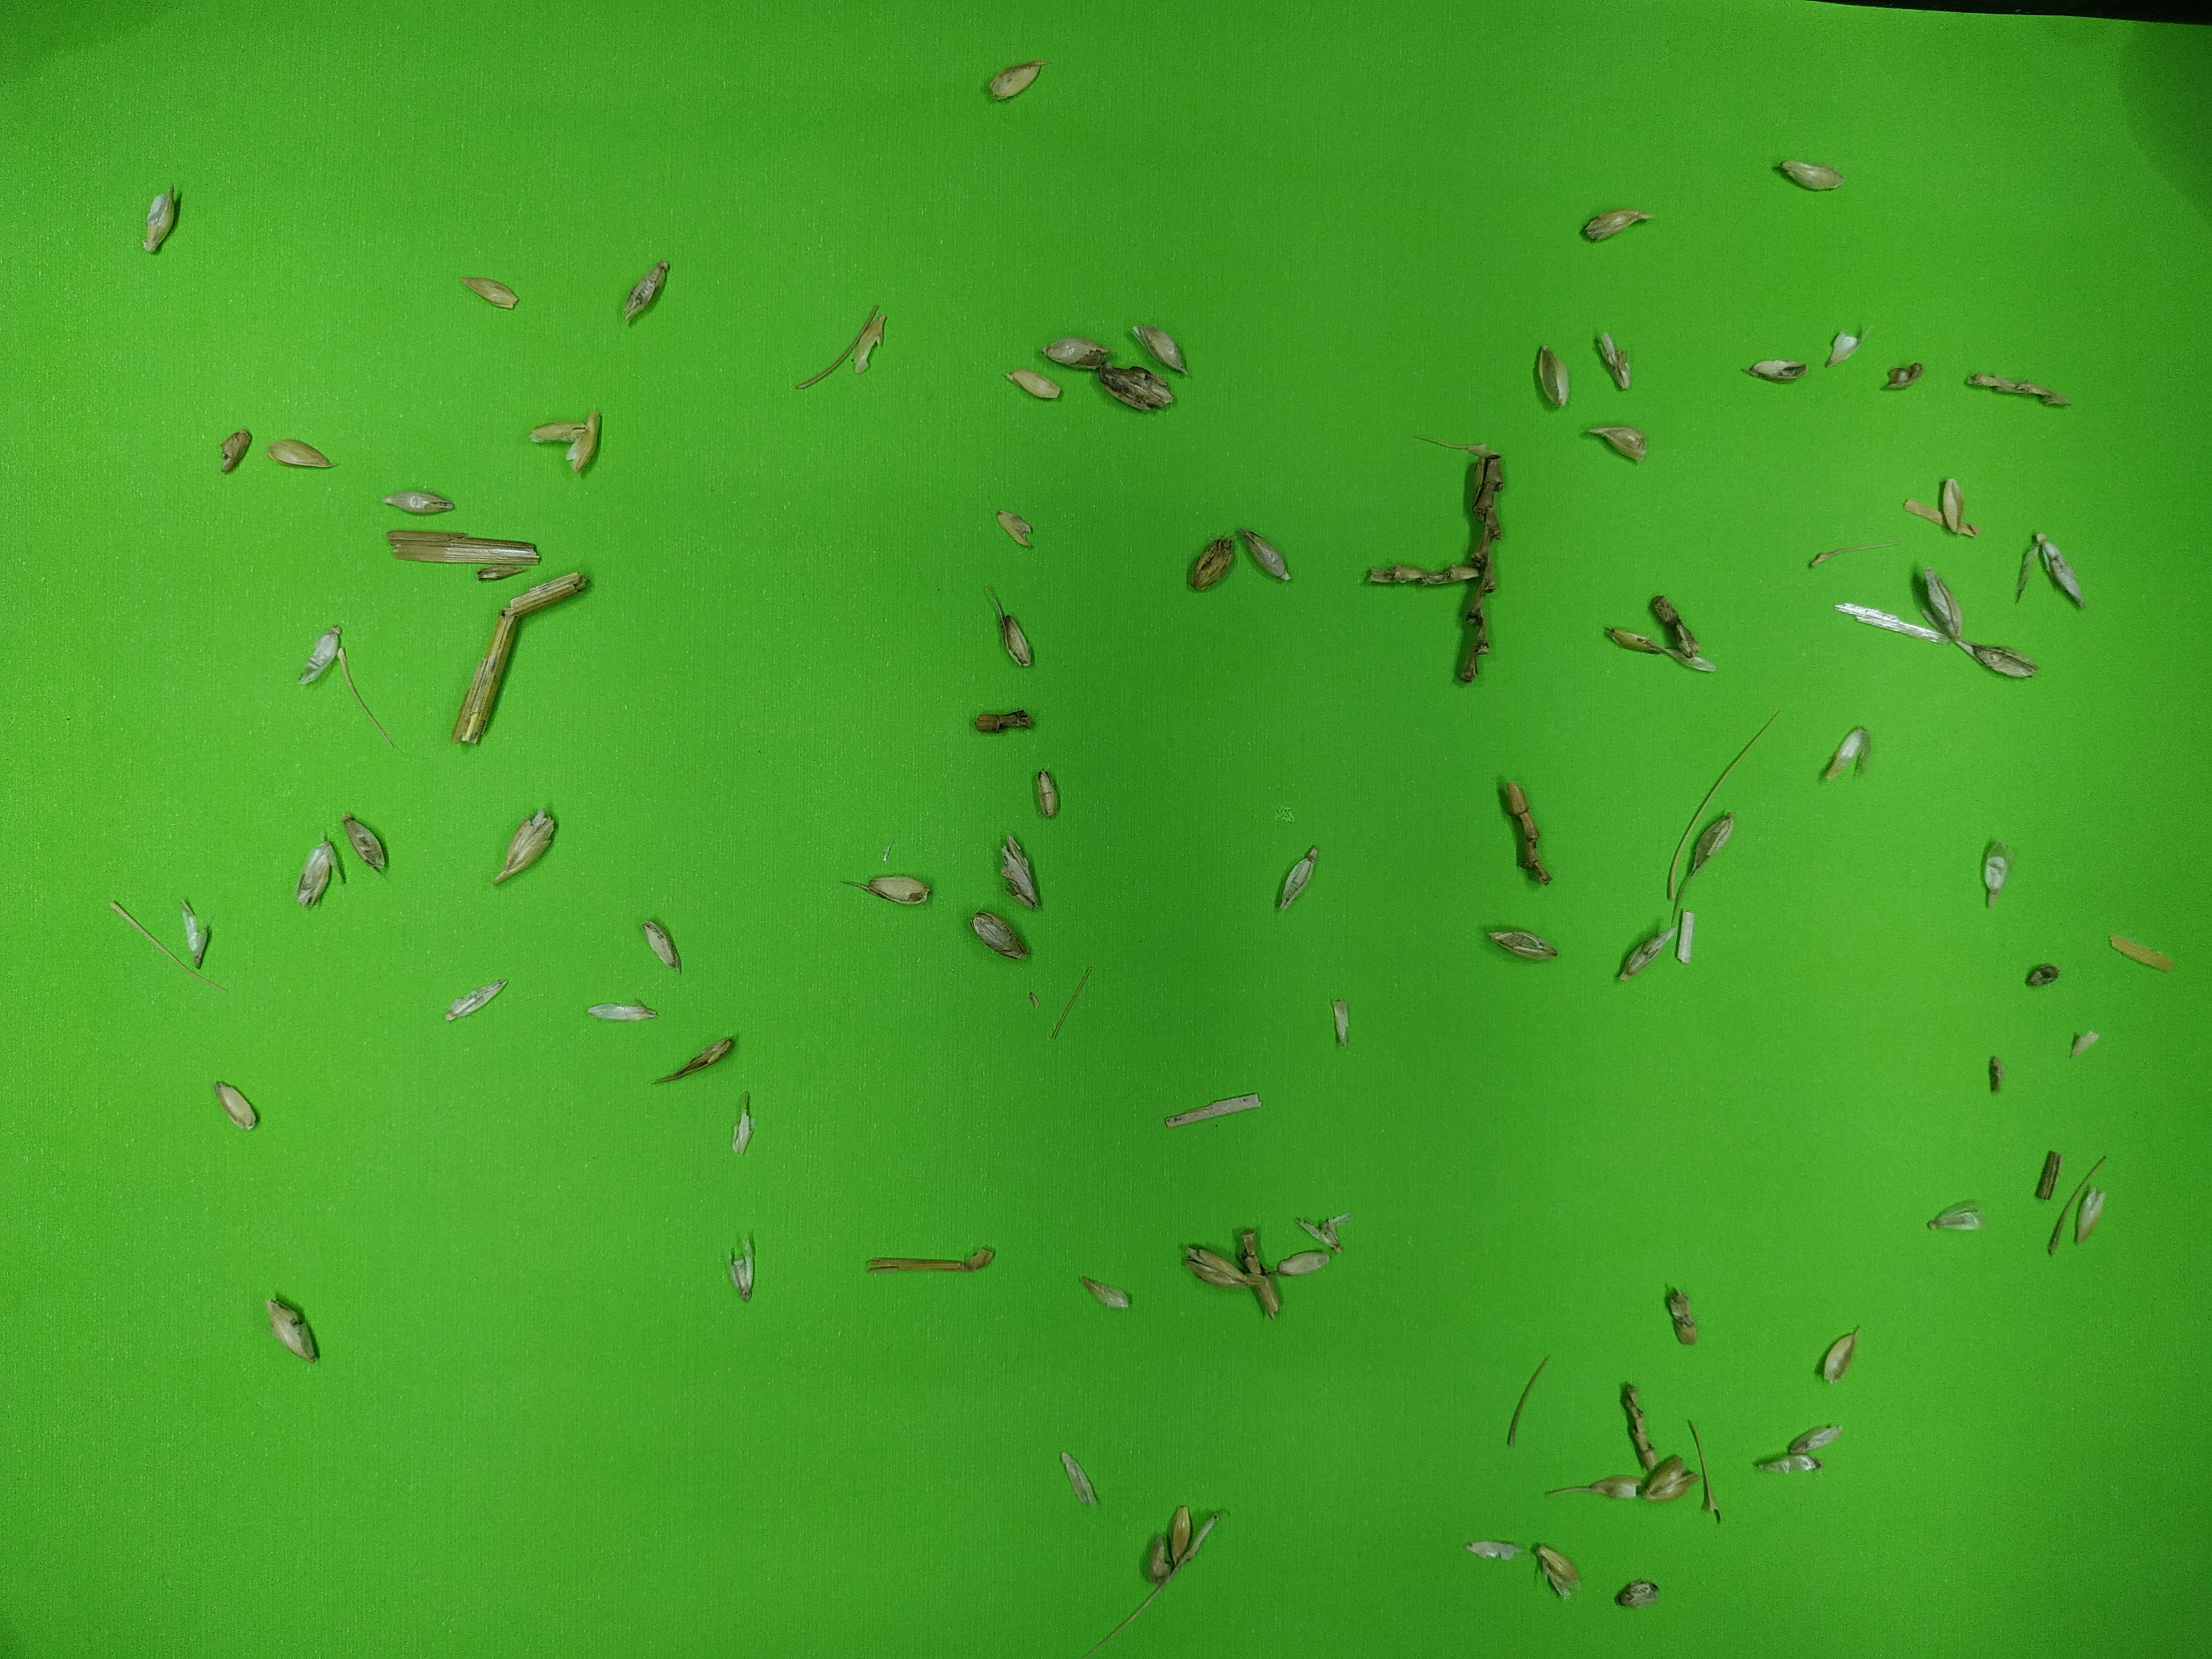impureza: (451, 565, 601, 756), (1453, 453, 1514, 685), (1696, 706, 1778, 814), (380, 525, 550, 572), (789, 300, 880, 387), (1670, 814, 1740, 927), (1494, 782, 1564, 890), (331, 645, 399, 749), (486, 800, 563, 892), (2048, 1154, 2109, 1260), (1594, 624, 1719, 674), (1829, 601, 1949, 652), (524, 401, 603, 474), (1959, 366, 2078, 411), (1503, 1345, 1554, 1450), (1609, 1375, 1663, 1473), (984, 830, 1045, 915), (287, 830, 350, 911), (651, 1028, 745, 1082), (263, 1286, 322, 1368), (1097, 361, 1181, 416), (1360, 558, 1493, 592), (1047, 960, 1101, 1046), (841, 868, 935, 917), (862, 1244, 1008, 1276), (1165, 1082, 1266, 1127), (2031, 530, 2088, 608), (984, 582, 1033, 674), (1914, 563, 1966, 645), (1176, 1236, 1256, 1288), (113, 901, 181, 962), (1688, 1419, 1726, 1527), (291, 617, 347, 690), (622, 251, 674, 326), (1129, 319, 1191, 380), (967, 903, 1033, 960), (1613, 927, 1681, 983), (1648, 586, 1700, 657), (1233, 523, 1292, 586), (1806, 535, 1911, 570), (1479, 920, 1564, 962), (1813, 725, 1871, 786), (1773, 153, 1850, 199), (340, 807, 392, 873), (1658, 1283, 1707, 1352), (179, 889, 218, 976), (442, 972, 510, 1021), (138, 188, 185, 258), (1975, 833, 2017, 910), (1590, 328, 1637, 396), (1278, 840, 1322, 911), (1580, 206, 1660, 244), (1531, 340, 1575, 410), (1536, 1473, 1644, 1500), (2106, 925, 2172, 971), (1660, 812, 1693, 903), (1820, 1316, 1865, 1382), (1585, 423, 1656, 465), (1642, 1453, 1698, 1506), (1939, 474, 1980, 544), (1413, 423, 1500, 457), (1970, 641, 2045, 680), (458, 265, 521, 310), (209, 1080, 263, 1133), (1076, 1272, 1141, 1316), (723, 1086, 759, 1162), (636, 917, 683, 976), (725, 1227, 759, 1305), (373, 481, 451, 516), (984, 59, 1047, 103), (1531, 1541, 1578, 1598), (1191, 535, 1237, 594), (1052, 1446, 1097, 1506), (1284, 1215, 1357, 1251), (998, 366, 1068, 404), (1745, 1448, 1834, 1478), (265, 432, 333, 471), (1926, 1192, 1987, 1232), (583, 997, 658, 1028), (974, 704, 1040, 739), (1040, 333, 1104, 368), (1162, 1502, 1198, 1561), (1183, 1507, 1221, 1563), (2029, 1140, 2060, 1208), (859, 308, 894, 369), (1458, 1534, 1526, 1563), (1740, 356, 1806, 385), (2008, 537, 2036, 606), (1670, 910, 1702, 965), (1881, 359, 1926, 397), (1144, 1534, 1176, 1588), (1820, 328, 1860, 369), (218, 423, 251, 474), (1251, 1269, 1284, 1317), (991, 507, 1033, 545), (2074, 1188, 2106, 1239), (1613, 1575, 1658, 1610), (1325, 995, 1353, 1049), (1275, 1249, 1331, 1276), (1031, 769, 1059, 821), (1986, 1044, 2010, 1101), (2067, 1019, 2102, 1060), (1231, 1223, 1264, 1265), (2020, 960, 2064, 992), (1794, 1422, 1843, 1450), (1900, 495, 1944, 525)
